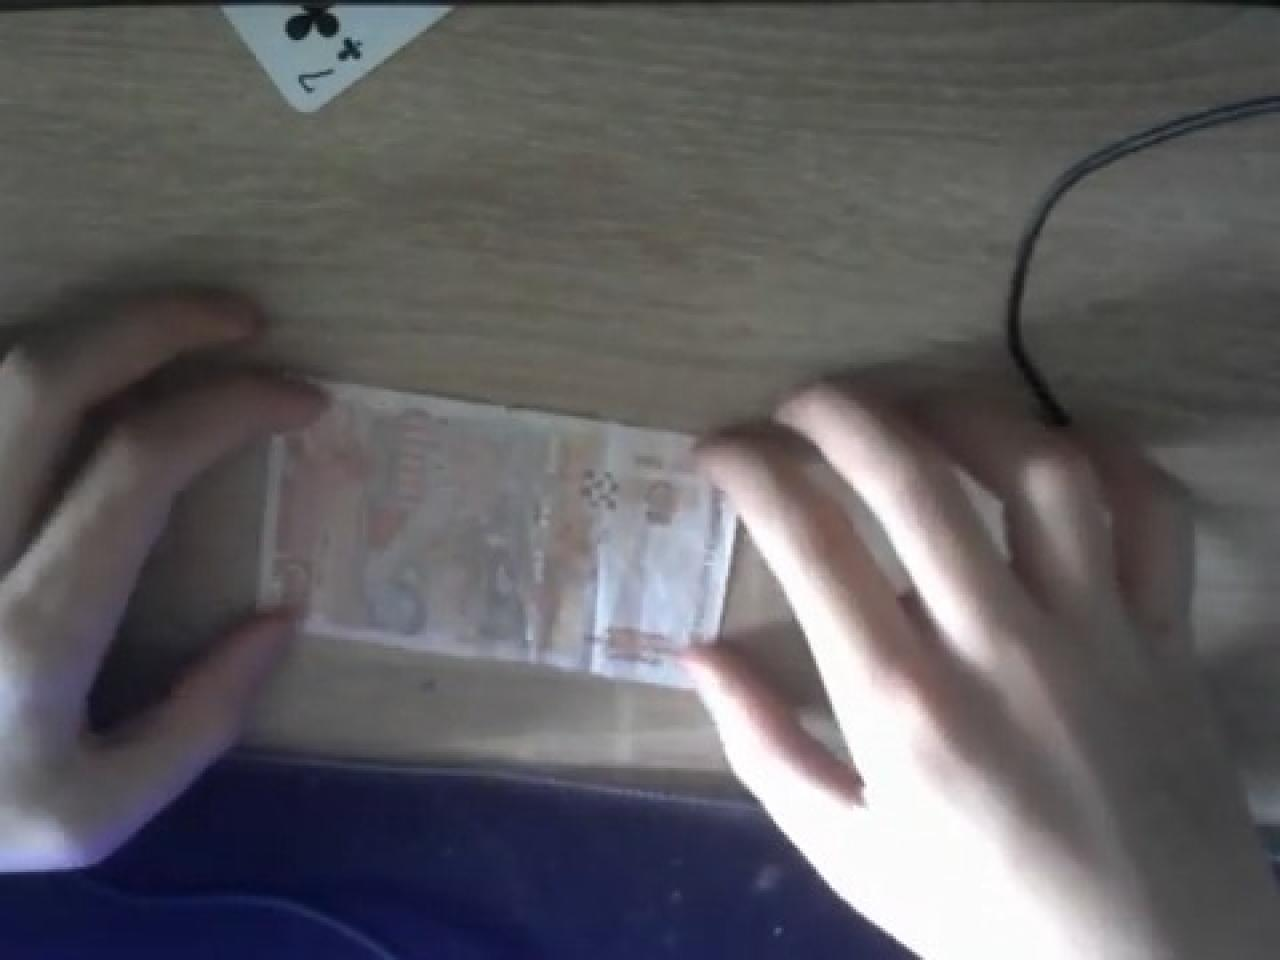5leva: (251, 379, 736, 688)
